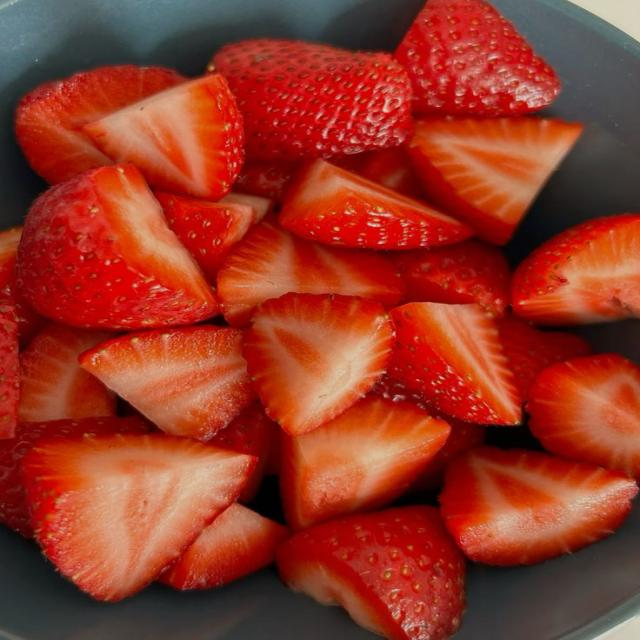strawberry sliced: (22, 434, 254, 600), (17, 165, 218, 330), (277, 506, 465, 639), (208, 39, 412, 160), (440, 447, 638, 565), (280, 395, 449, 529), (407, 117, 582, 244), (243, 293, 393, 435), (82, 75, 243, 200), (80, 325, 255, 440), (15, 66, 185, 183), (218, 220, 404, 325), (394, 0, 559, 116), (0, 416, 147, 537), (280, 160, 472, 249), (389, 303, 521, 424), (512, 214, 639, 325), (527, 355, 639, 478), (372, 376, 486, 491), (159, 503, 289, 590), (19, 323, 115, 422), (394, 241, 510, 317), (155, 192, 254, 281), (498, 316, 591, 401), (211, 402, 279, 502), (411, 413, 486, 492), (0, 227, 46, 347), (0, 253, 47, 348), (346, 147, 424, 199), (0, 298, 19, 441), (371, 374, 434, 414), (234, 161, 297, 201), (219, 192, 274, 223), (0, 227, 22, 268)
